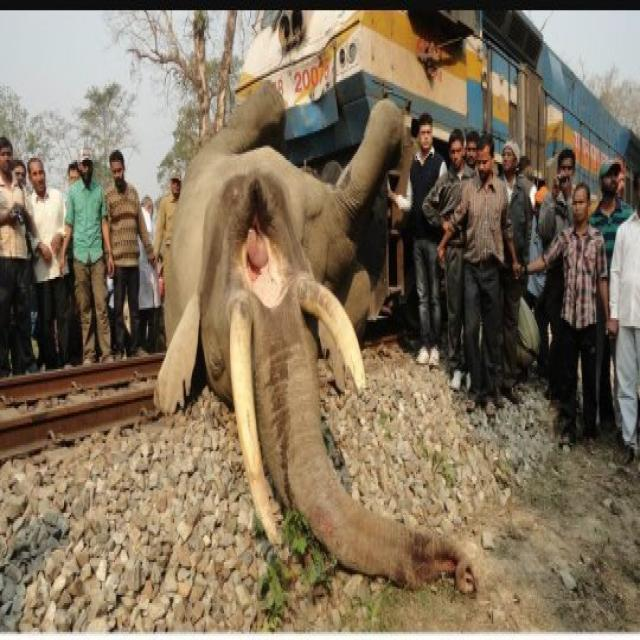Elephant: (156, 66, 441, 599)
